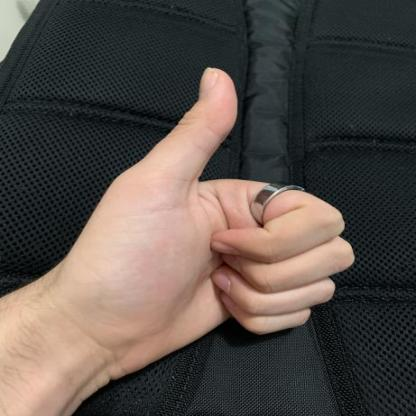Thumbs-Up: (21, 50, 357, 400)
